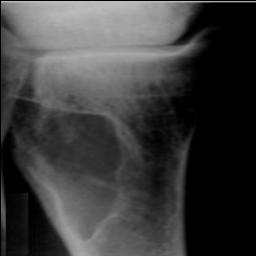cancer: (10, 98, 121, 241)
